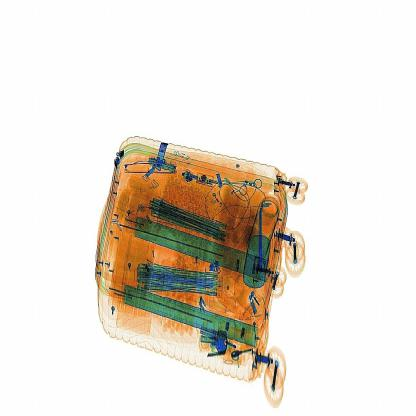pliers: (249, 200, 272, 275)
